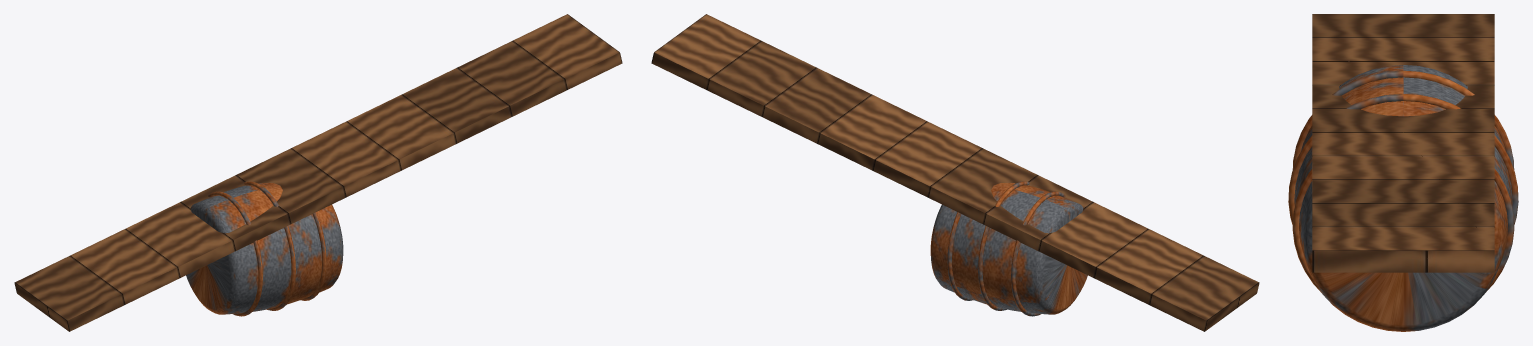
File: seesaw_plank.gltf
The picture shows the model from 3 angles, left to right: view 1: azimuth 30°, elevation 25°; view 2: azimuth 150°, elevation 25°; view 3: azimuth 270°, elevation 25°; orthographic projection. The views are drawn at different scales.
Parts seen in each view (by area): view 1: seesaw_plank; view 2: seesaw_plank; view 3: seesaw_plank.
Boxes of the visible parts, box(x1,y1,x2,y2) form: seesaw_plank: box(14, 14, 622, 331); seesaw_plank: box(651, 14, 1259, 331); seesaw_plank: box(1288, 14, 1518, 331).
Size of the model in its own units: 4.89 by 1.62 by 1.01.
Materials: 2 (2 with a texture image).
